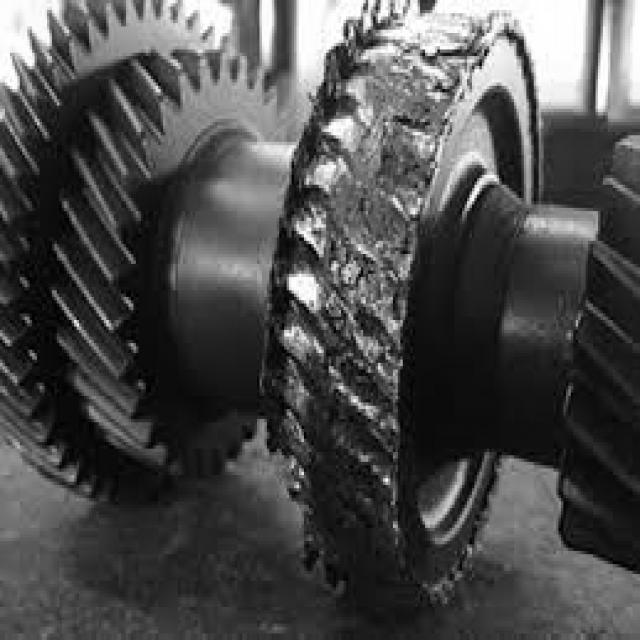Fault-Exist: (281, 13, 537, 639)
No Fault: (12, 0, 257, 587), (53, 61, 199, 531)
